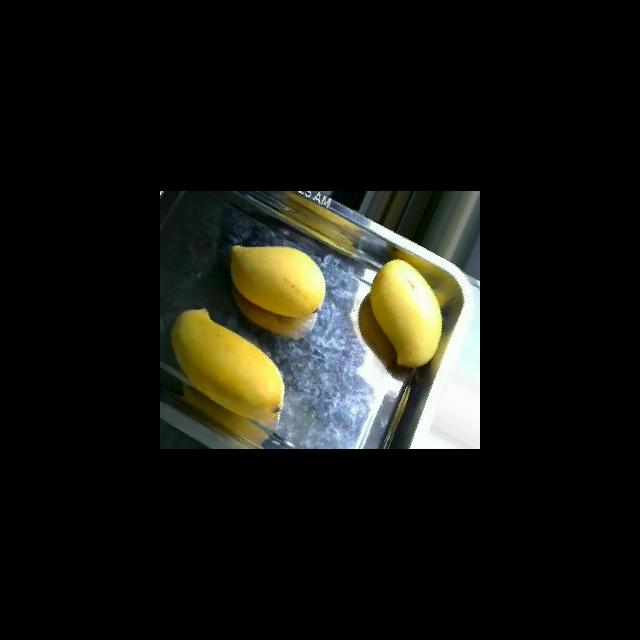mango: (369, 258, 443, 368), (229, 244, 326, 318)
